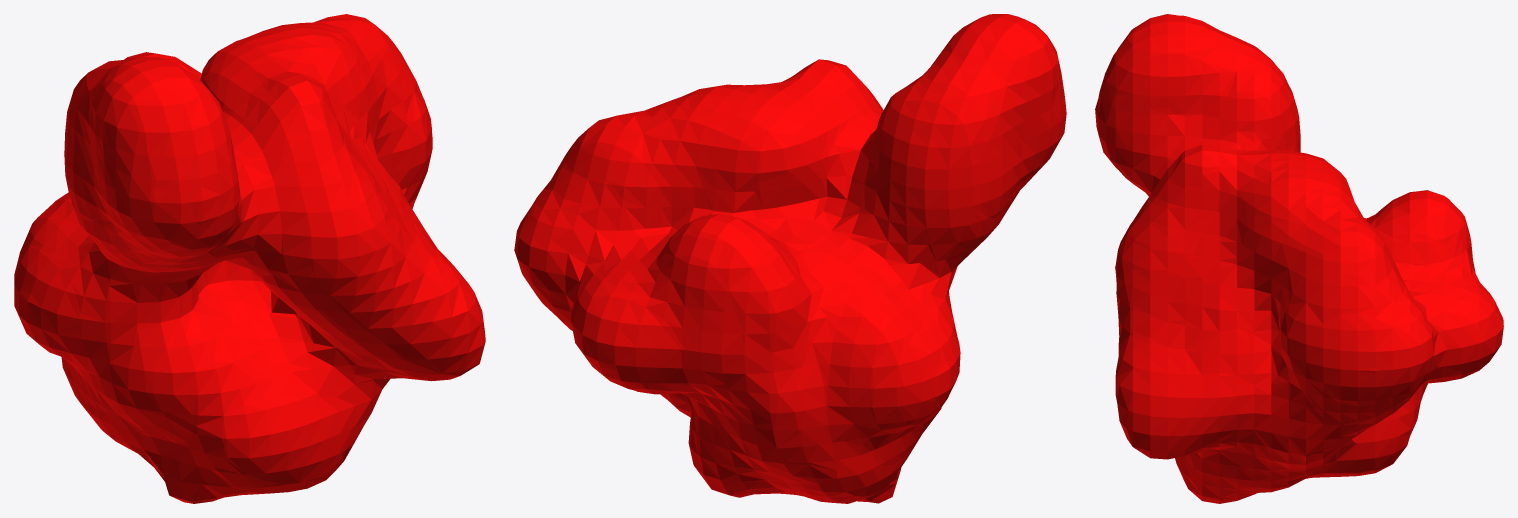
File: yaiL_coarse.dae
3 renders of one model, left to right at view 1: azimuth 30°, elevation 25°; view 2: azimuth 150°, elevation 25°; view 3: azimuth 270°, elevation 25°, orthographic. The views are drawn at different scales.
Visible parts, largest first — view 1: yaiL; view 2: yaiL; view 3: yaiL.
Boxes of the visible parts, x1=… form: yaiL: x1=14, y1=14, x2=485, y2=503; yaiL: x1=514, y1=14, x2=1066, y2=503; yaiL: x1=1095, y1=14, x2=1503, y2=503.
Bounding box in the file's own units: 46.71 × 50.81 × 45.16.
